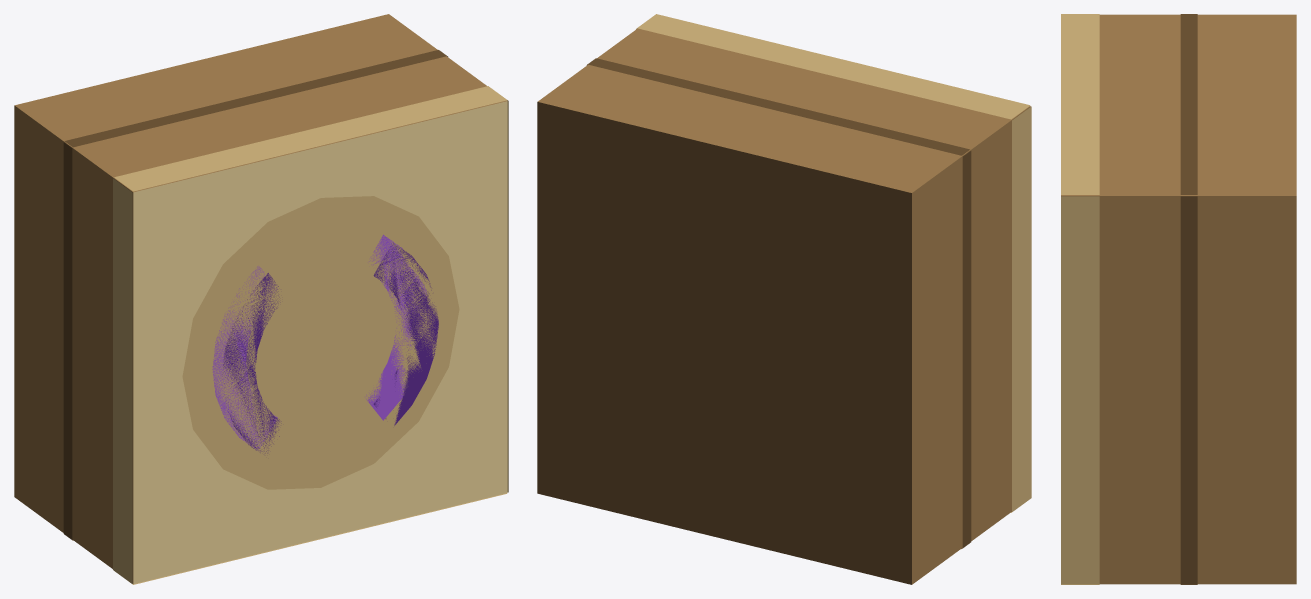
The model's file is split_switch.obj.
The picture shows the model from 3 angles, left to right: view 1: azimuth 30°, elevation 25°; view 2: azimuth 150°, elevation 25°; view 3: azimuth 270°, elevation 25°; orthographic projection.
Visible parts, largest first — view 1: split_switch, split_switch_decal; view 2: split_switch, split_switch_decal; view 3: split_switch, split_switch_decal.
Boxes of the visible parts, left/top/right/bottom form: split_switch: left=14, top=14, right=507, bottom=583; split_switch_decal: left=63, top=50, right=508, bottom=584; split_switch: left=537, top=28, right=1030, bottom=584; split_switch_decal: left=586, top=14, right=1031, bottom=548; split_switch: left=1061, top=14, right=1296, bottom=584; split_switch_decal: left=1061, top=14, right=1197, bottom=584.
Size of the model in its own units: 1 by 1 by 0.552.
